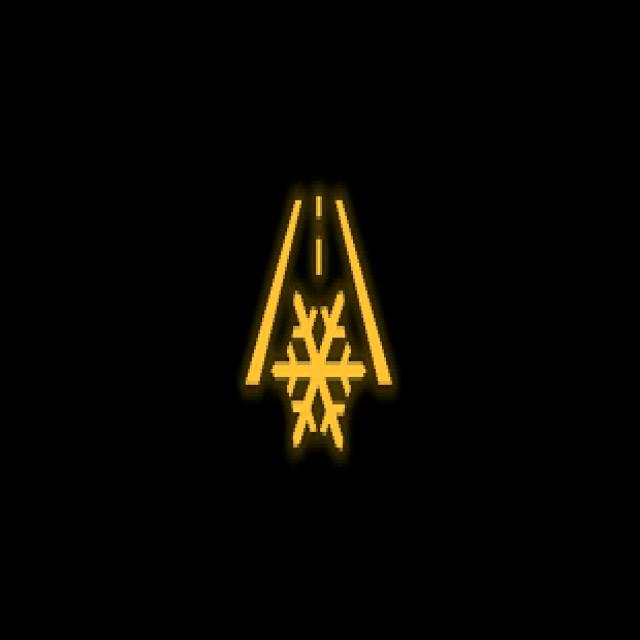kontrolka: (223, 162, 413, 474)
